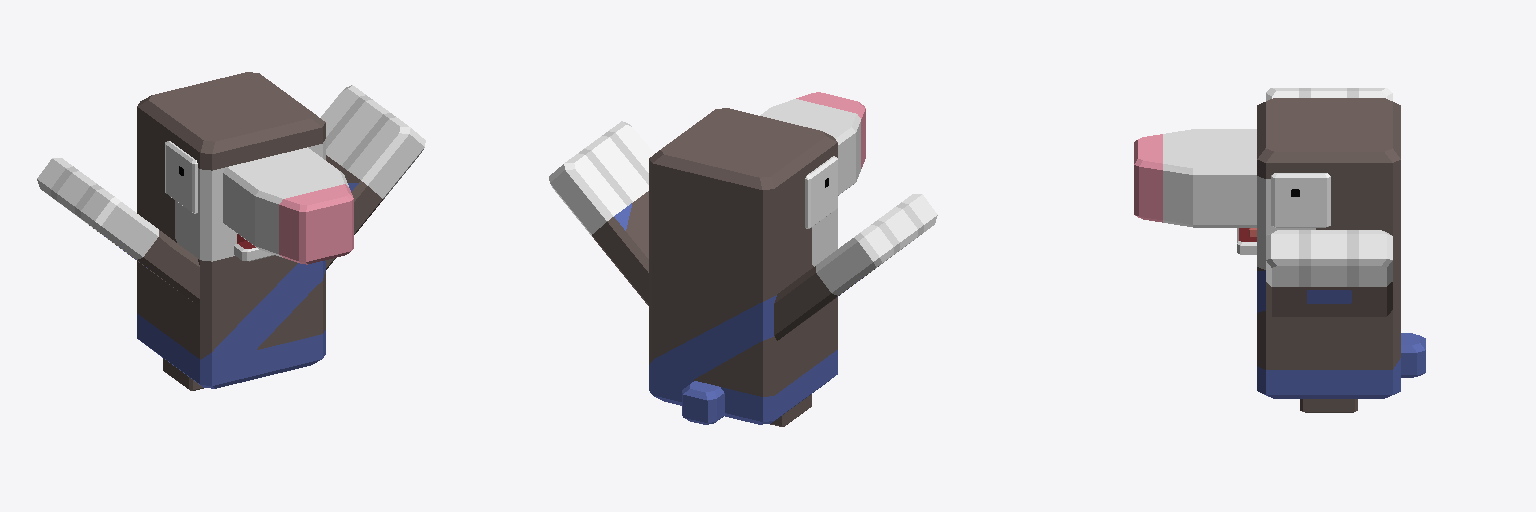
The picture shows the model from 3 angles: view 1: azimuth 30°, elevation 25°; view 2: azimuth 150°, elevation 25°; view 3: azimuth 270°, elevation 25°; orthographic projection.
Visible parts, largest first — view 1: pq0529; view 2: pq0529; view 3: pq0529.
Boxes of the visible parts, box(x1,y1,x2,y2) form: pq0529: box(37, 72, 425, 390); pq0529: box(549, 92, 937, 426); pq0529: box(1134, 88, 1425, 412).
Bounding box in the file's own units: 2.14 × 1.62 × 1.63.
Materials: 1 (1 with a texture image).